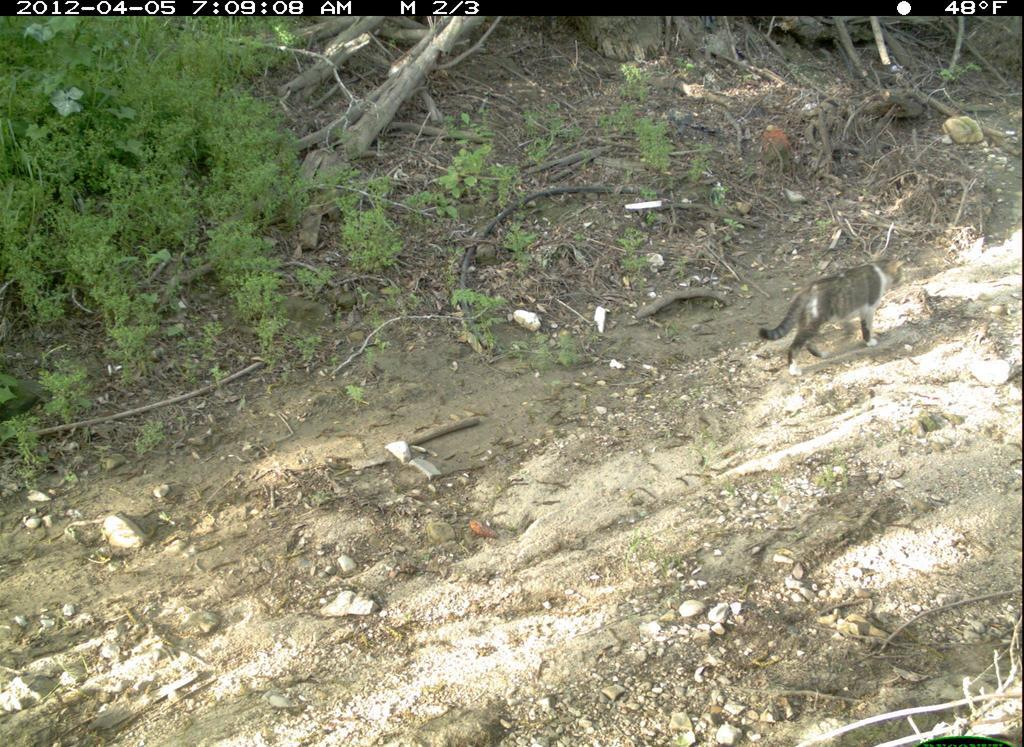cat: (753, 254, 921, 382)
